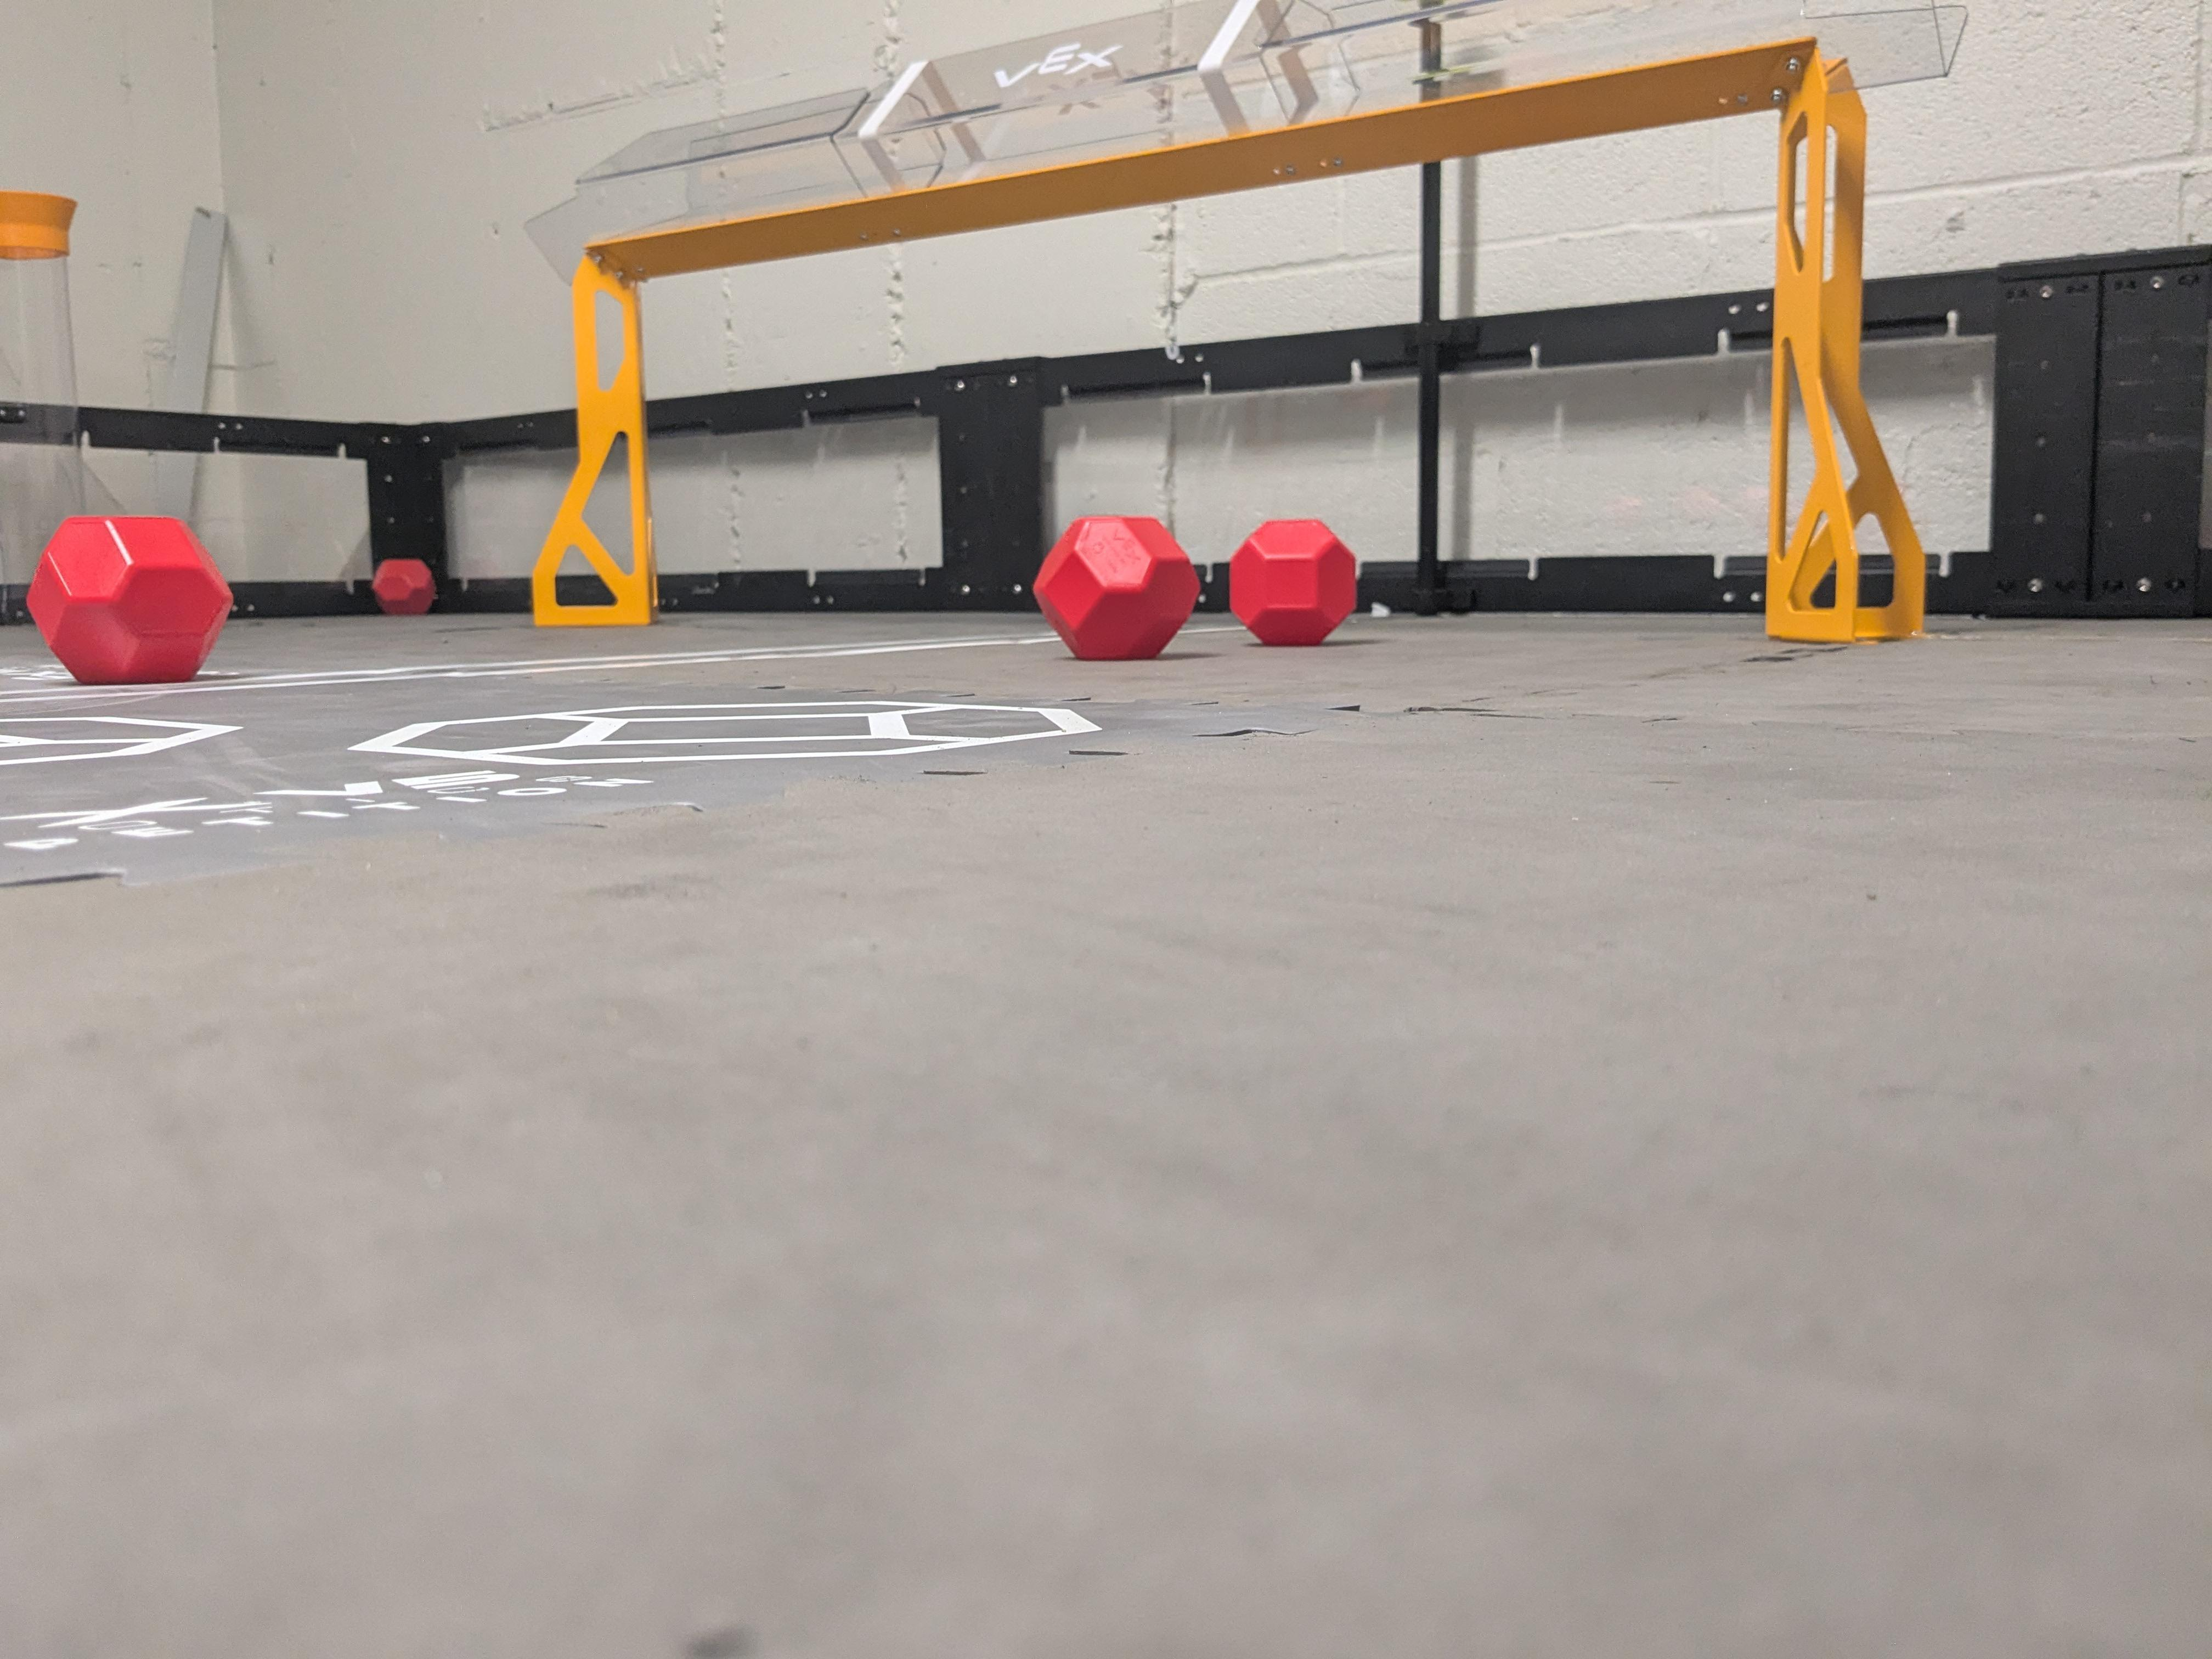Vex-Pieces-RED: (1036, 519, 1345, 659), (31, 519, 232, 681), (371, 558, 435, 615)
